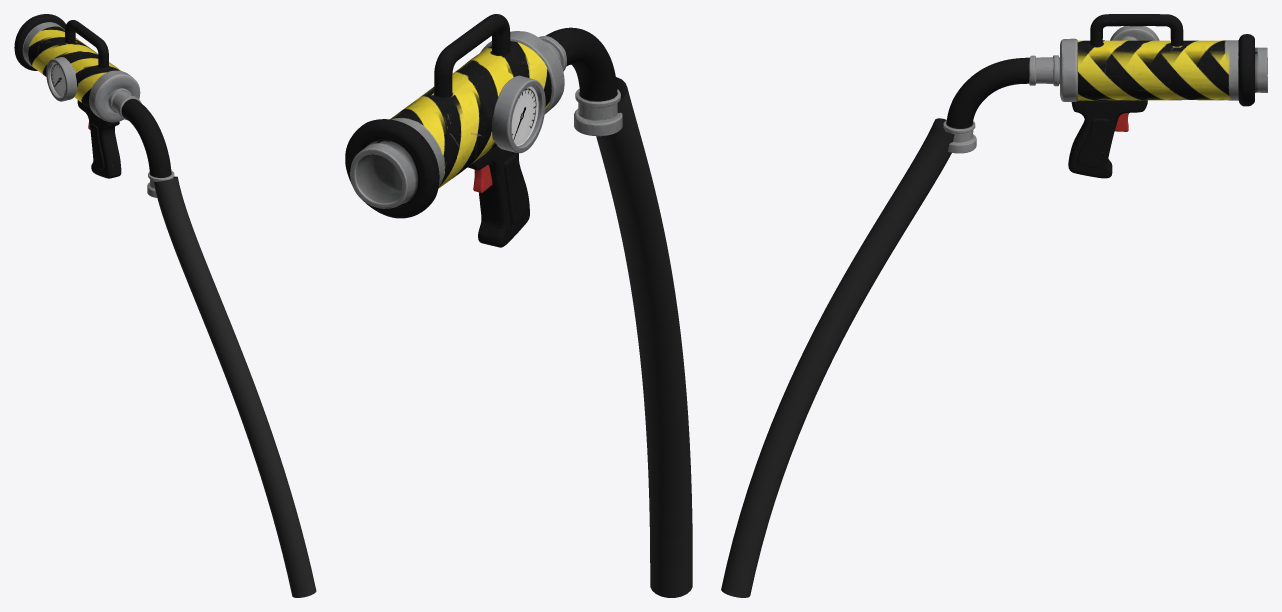
File: lancia_c_industriale.gltf
3 views of the same model, side by side, from view 1: azimuth 30°, elevation 25°; view 2: azimuth 150°, elevation 25°; view 3: azimuth 270°, elevation 25° (orthographic). The views are drawn at different scales.
Parts seen in each view (by area): view 1: Lancia, TuboZaino; view 2: Lancia, TuboZaino; view 3: Lancia, TuboZaino.
Part boxes in pixels (box(x1,y1,x2,y2)): Lancia: box(14, 14, 174, 197); TuboZaino: box(153, 176, 316, 597); Lancia: box(345, 14, 622, 247); TuboZaino: box(596, 77, 692, 597); Lancia: box(943, 14, 1267, 178); TuboZaino: box(721, 118, 954, 597).
Size of the model in its own units: 0.2579 by 1.21 by 1.09.
Materials: 2 (1 with a texture image).
